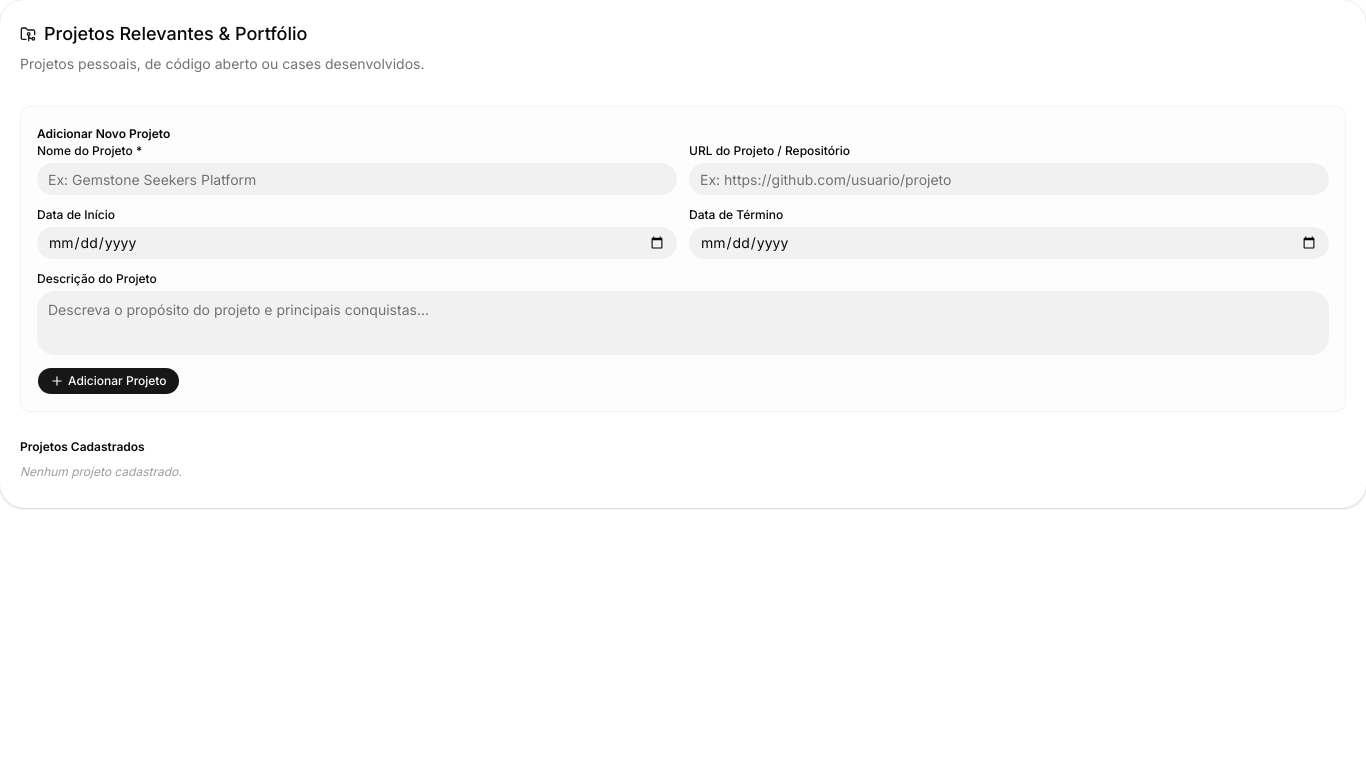
Scenario: CandidateProjectsSection Component › displays validation errors on empty submission
The width and height of the screenshot is (1366, 768).
Click the button "Adicionar Projeto". click: (108, 381)
box: x1=37 y1=367 x2=180 y2=395
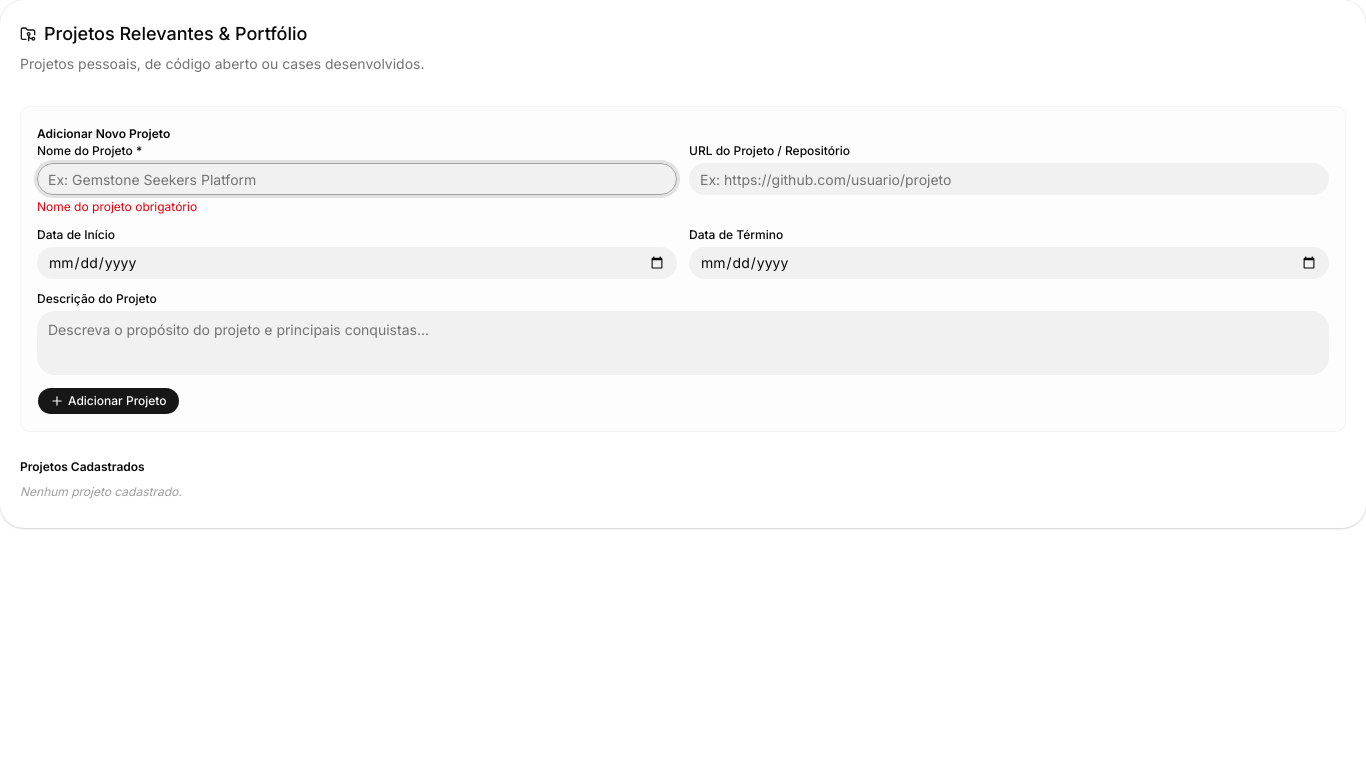
Expected: the text "Nome do projeto obrigatório" is shown, x1=37 y1=199 x2=197 y2=214
